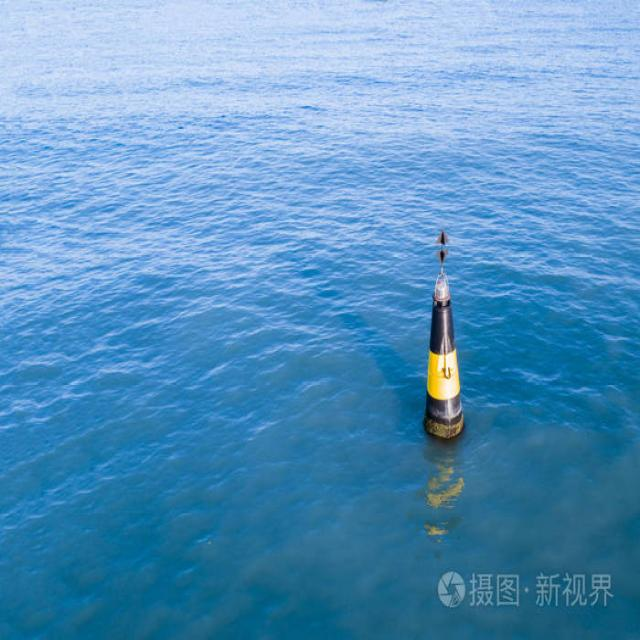buoy: (418, 214, 465, 454)
